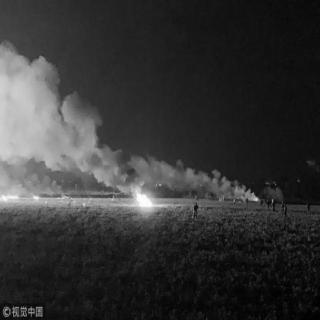Fire: (0, 191, 18, 202)
